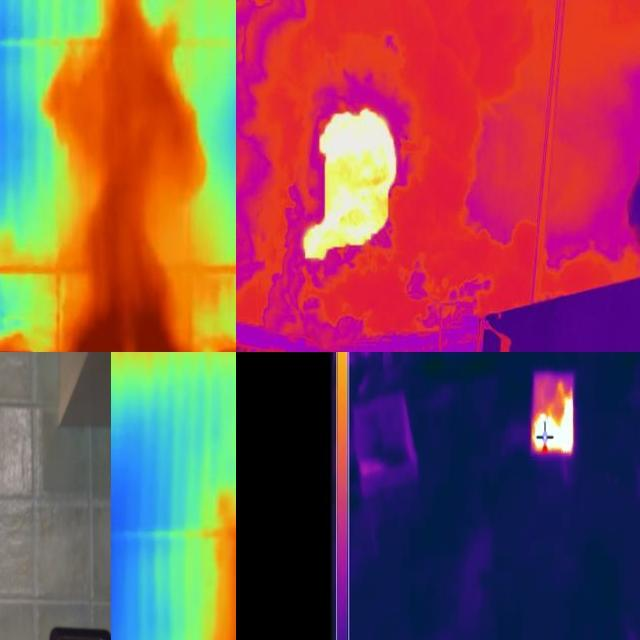fire: (240, 1, 451, 313), (58, 302, 208, 353), (531, 380, 575, 458)
